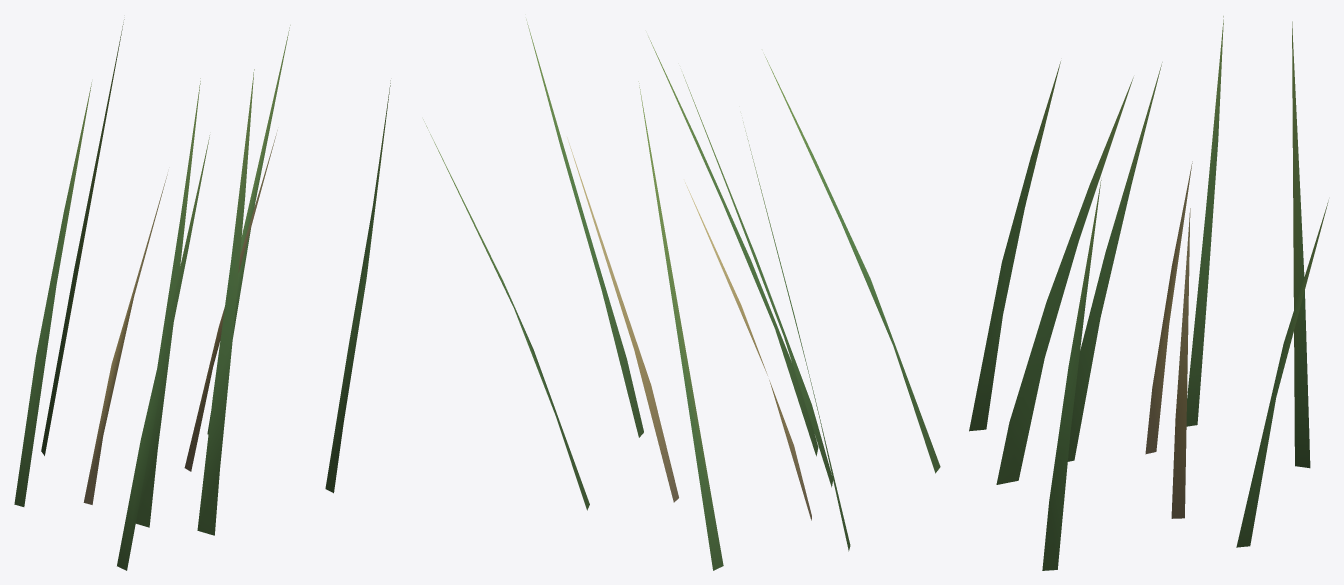
The model's file is Windswept_LOD1.glb.
3 views of the same model, side by side, from view 1: azimuth 30°, elevation 25°; view 2: azimuth 150°, elevation 25°; view 3: azimuth 270°, elevation 25° (orthographic). The views are drawn at different scales.
Visible parts, largest first — view 1: Windswept_LOD1; view 2: Windswept_LOD1; view 3: Windswept_LOD1.
Boxes of the visible parts, bbox=[...] form: Windswept_LOD1: bbox=[14, 19, 390, 570]; Windswept_LOD1: bbox=[423, 19, 940, 570]; Windswept_LOD1: bbox=[969, 16, 1328, 570].
Bounding box in the file's own units: 0.2702 × 0.3272 × 0.2157.
